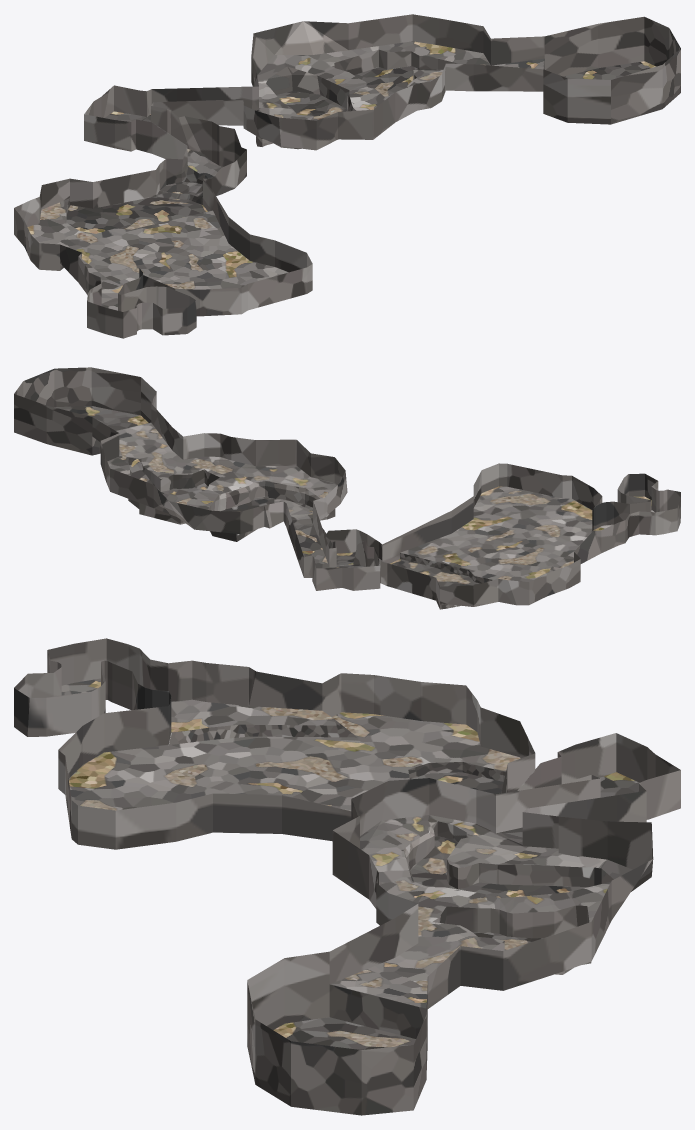
File: Wil_SecondLevelTextured (1) 1.fbx
3 renders of one model, top to bottom at view 1: azimuth 30°, elevation 25°; view 2: azimuth 150°, elevation 25°; view 3: azimuth 270°, elevation 25°, orthographic. The views are drawn at different scales.
Parts seen in each view (by area): view 1: Landscape; view 2: Landscape; view 3: Landscape.
Boxes of the visible parts, x1,y1,x2,y2 form: Landscape: [14, 14, 680, 338]; Landscape: [14, 367, 680, 609]; Landscape: [14, 638, 680, 1115].
Size of the model in its own units: 216364 by 27406 by 126917.
Materials: 1 (1 with a texture image).
